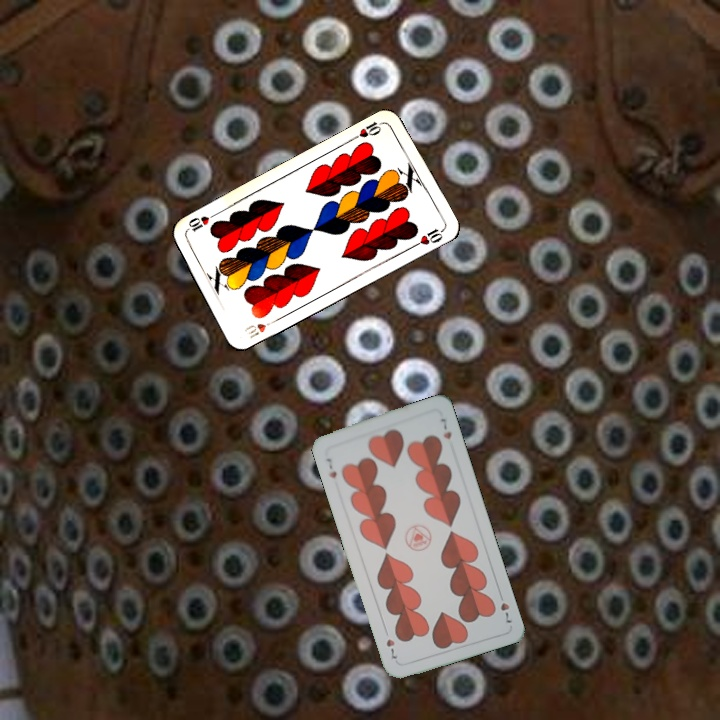H10: (240, 315, 279, 341), (349, 117, 387, 142)
H7: (495, 588, 515, 627), (322, 454, 339, 481)
